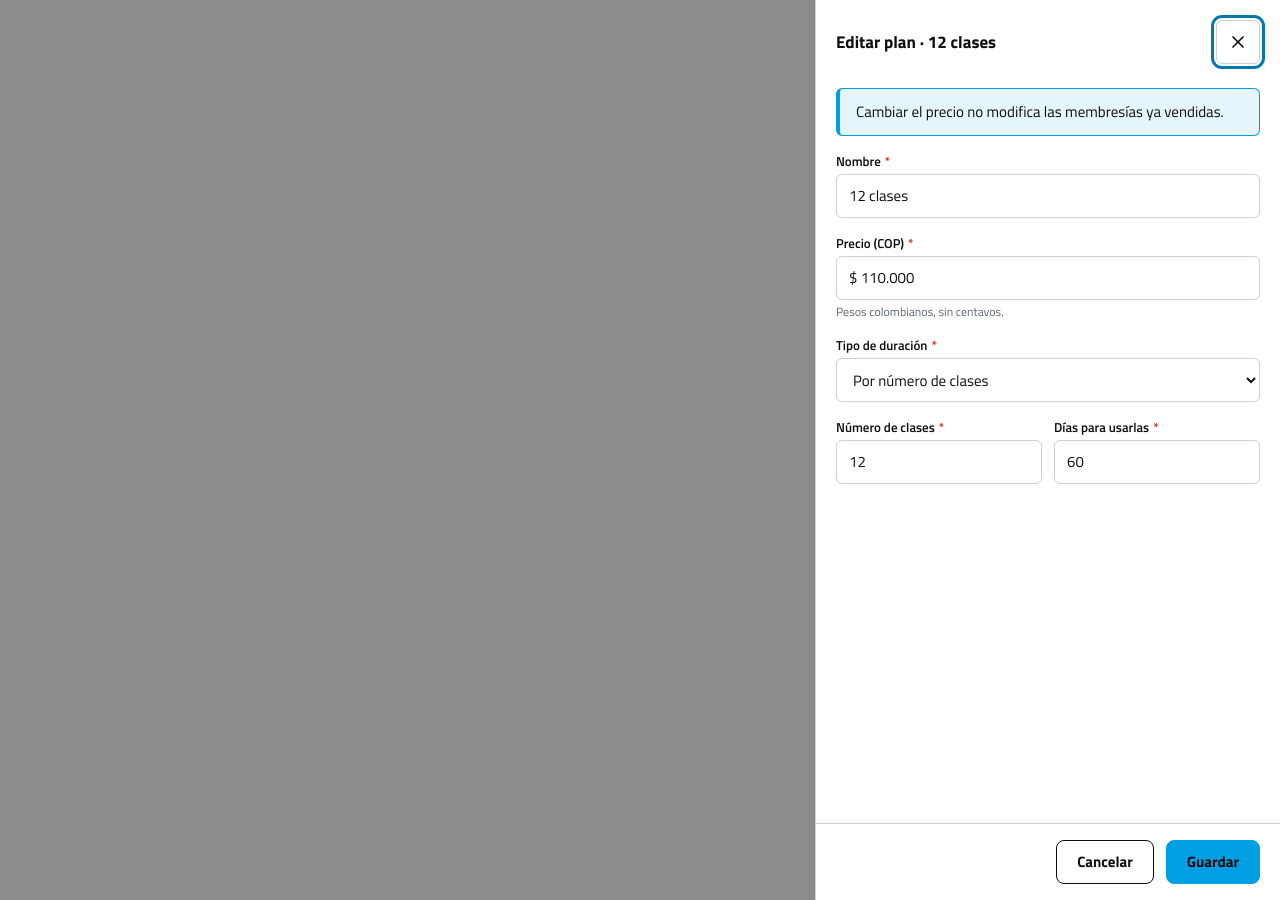
it: PlanForm · envía solo lo modificado (dirtyFields) › la validación del cliente frena un precio vacío sin enviar nada
The width and height of the screenshot is (1280, 900).
Clear the field labelled "Precio (COP)*" at (1048,278), box [836,256,1260,300]
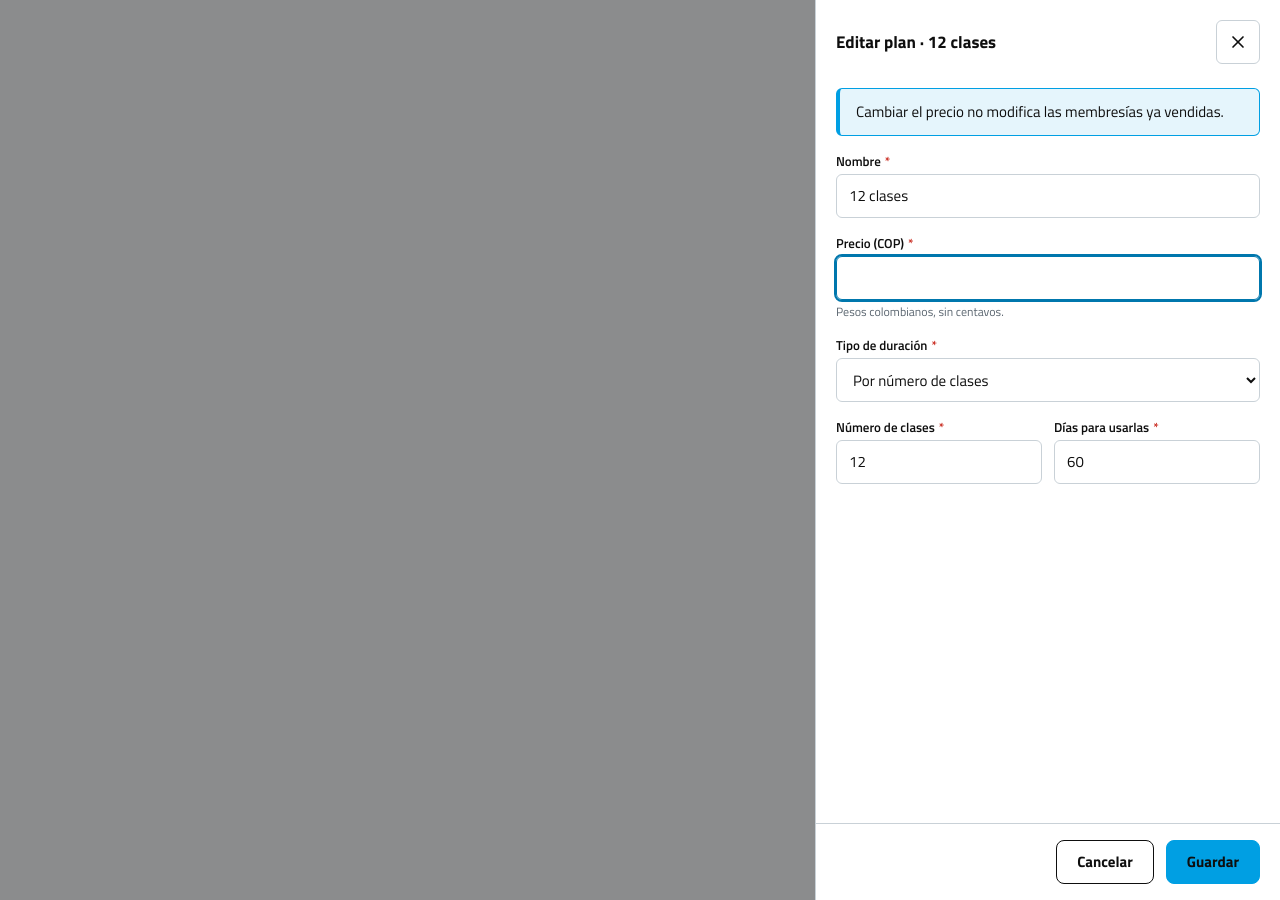
Click the button "Guardar" at (1213,862), box [1166,840,1260,884]
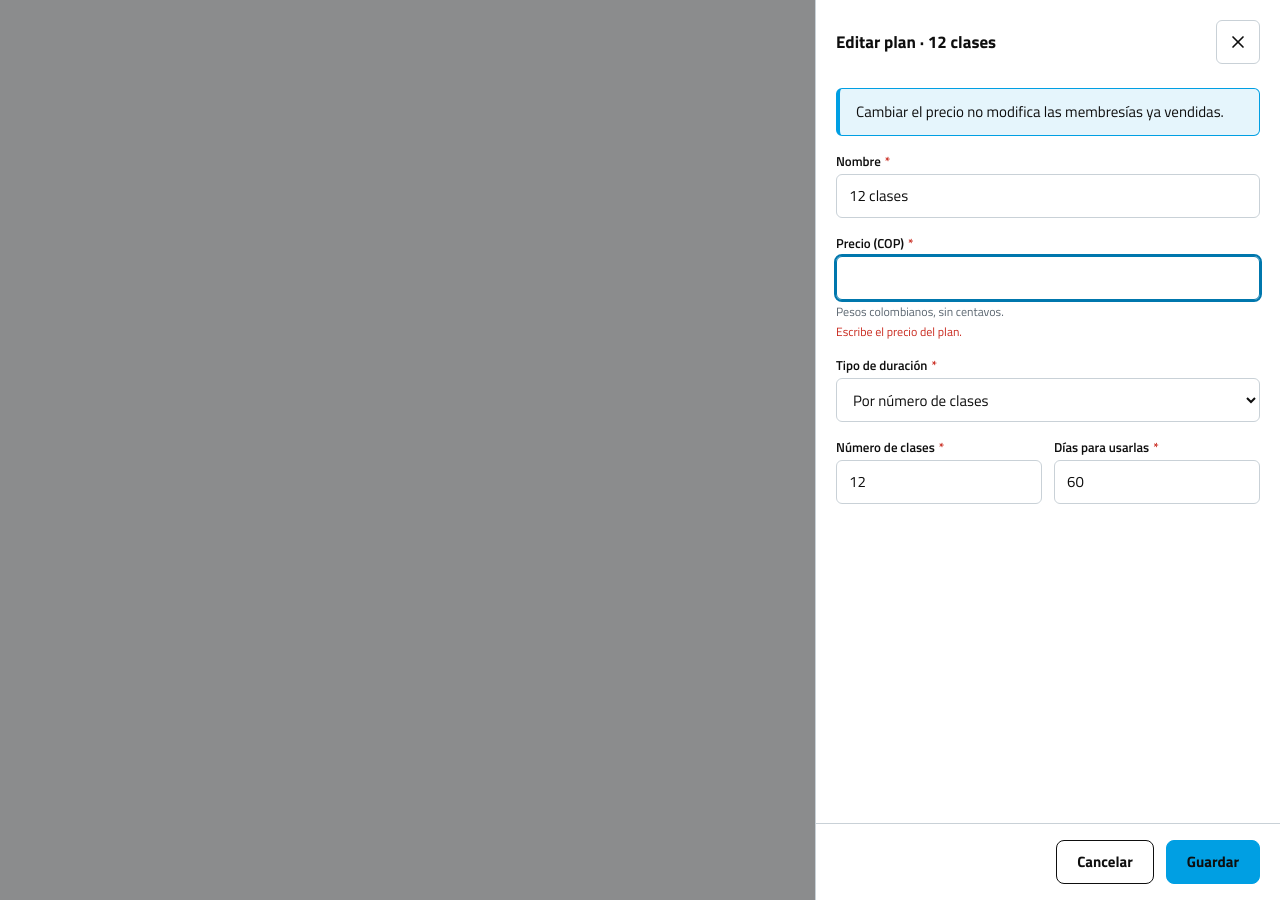
Expected: the text "Escribe el precio del plan." is shown, [836,322,962,341]
